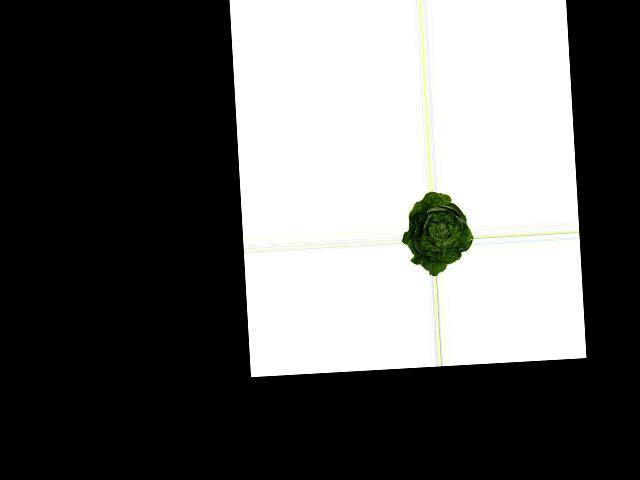lettuce: (399, 189, 474, 275)
